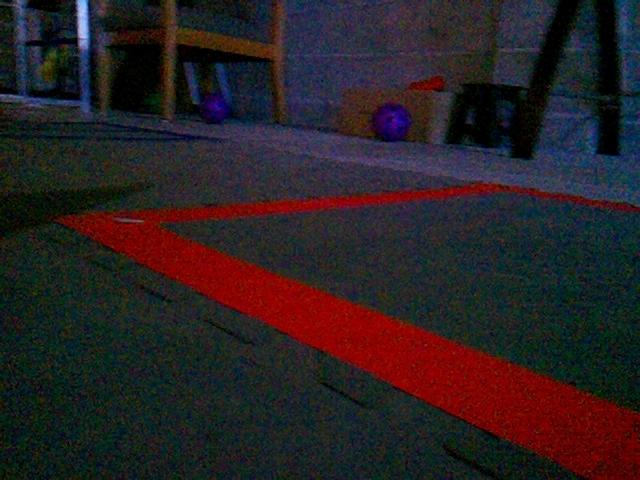Purple: (369, 102, 413, 141), (198, 91, 232, 124)
